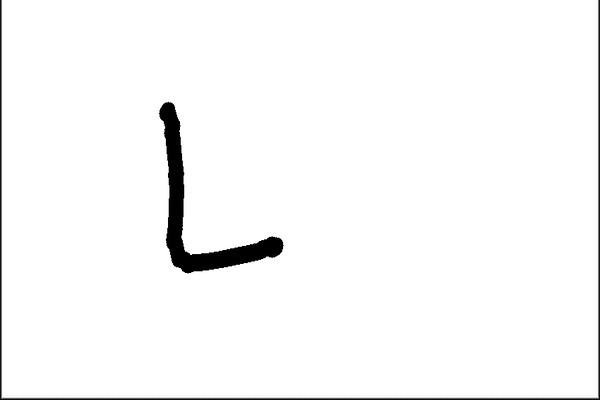L: (149, 96, 290, 274)
